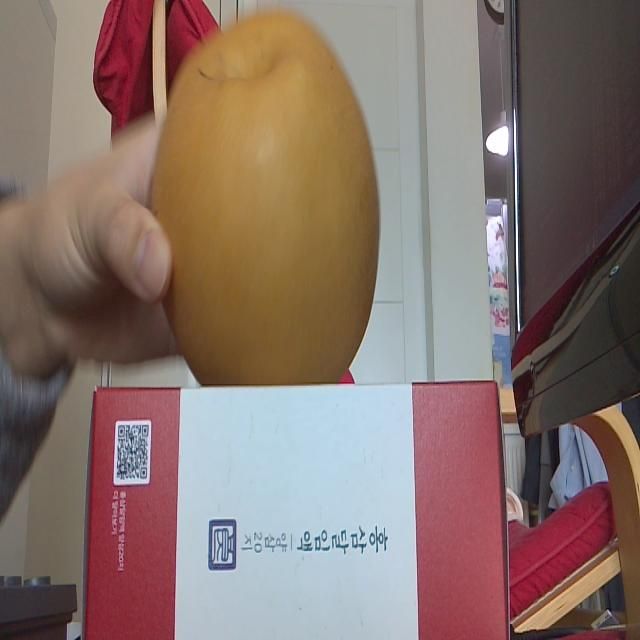pear: (149, 10, 381, 388)
